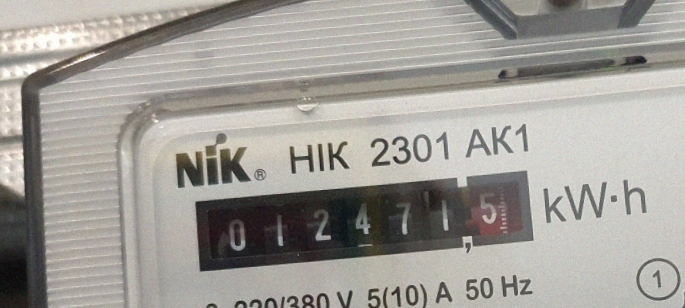0: (223, 214, 249, 252)
1: (272, 211, 286, 248), (437, 195, 450, 232)
2: (310, 205, 334, 243)
4: (351, 199, 373, 237)
5: (476, 187, 500, 226)
7: (391, 197, 414, 237)
screen: (183, 160, 546, 280)
